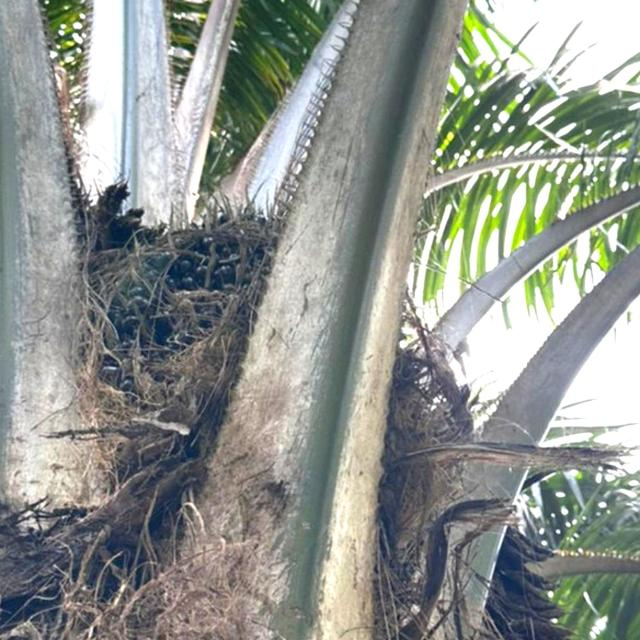almost: (100, 173, 294, 399)
